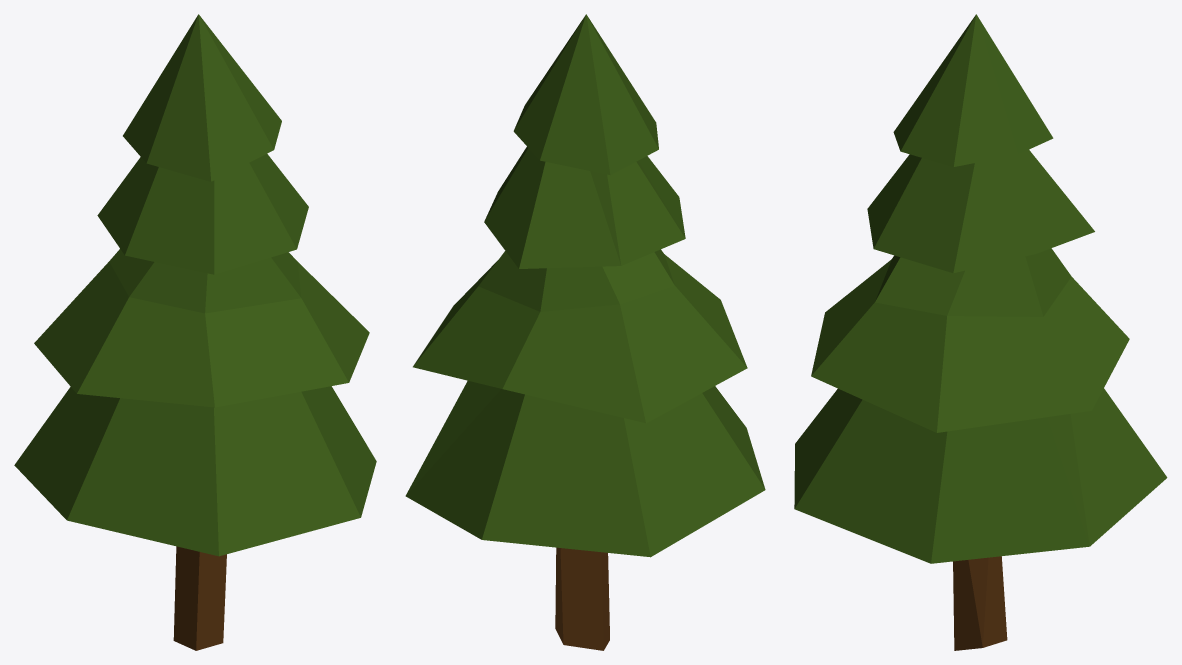
File: Bomen_Den.fbx
3 views of the same model, side by side, from view 1: azimuth 30°, elevation 25°; view 2: azimuth 150°, elevation 25°; view 3: azimuth 270°, elevation 25° (orthographic).
Parts seen in each view (by area): view 1: Denneboom; view 2: Denneboom; view 3: Denneboom.
Boxes of the visible parts, x1,y1,x2,y2 form: Denneboom: (14, 14, 376, 650); Denneboom: (405, 14, 765, 650); Denneboom: (794, 14, 1167, 650).
Bounding box in the file's own units: 479 × 923 × 494.
